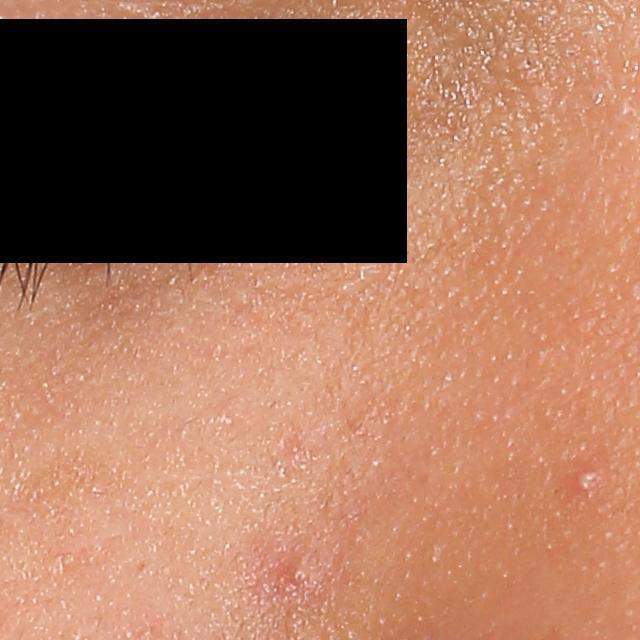papule: (290, 561, 317, 590)
pustule: (569, 469, 597, 499)
